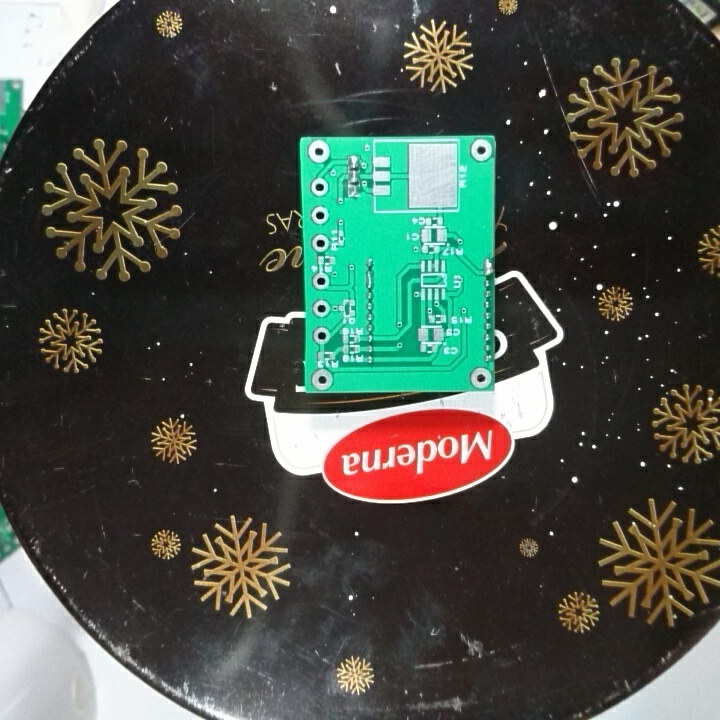F: (305, 138, 333, 165), (308, 366, 337, 392), (465, 137, 494, 163), (468, 365, 493, 390), (309, 295, 331, 320), (310, 204, 333, 227), (308, 175, 330, 198), (311, 232, 332, 256), (311, 325, 332, 347), (309, 272, 331, 292)
P: (363, 267, 378, 289), (482, 255, 496, 278)
